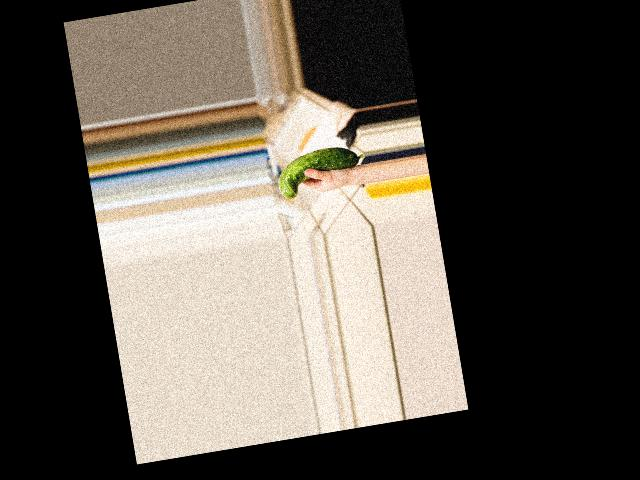cucumber: (273, 141, 369, 200)
